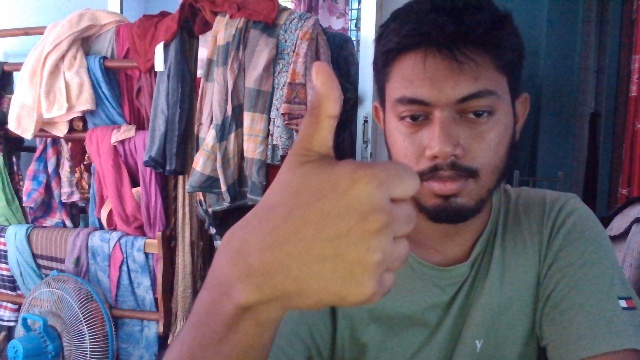yes: (240, 40, 421, 327)
